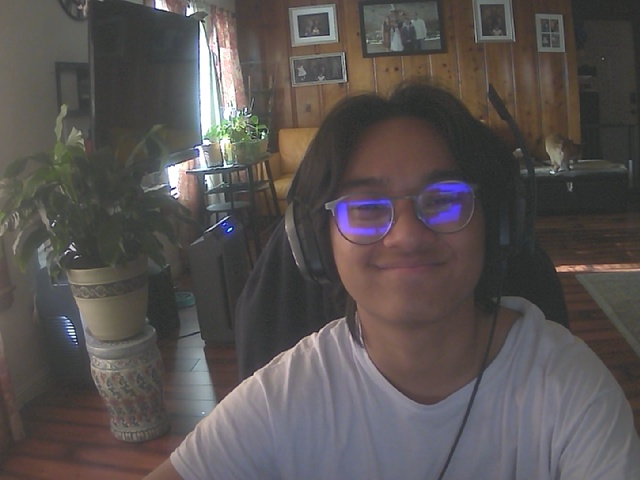happy: (328, 111, 489, 321)
